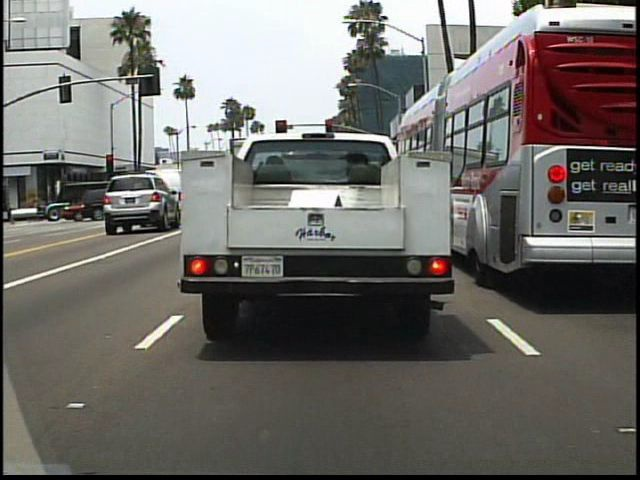person: (26, 194, 45, 227)
